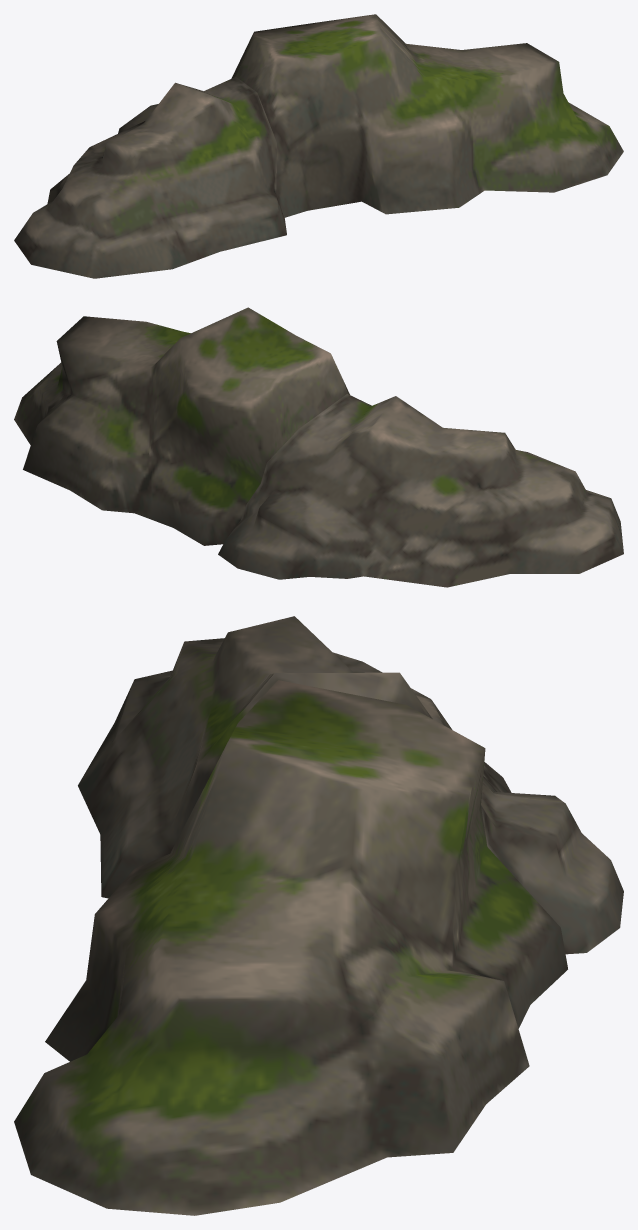
File: shrine_wj004_10.FBX
3 renders of one model, top to bottom at view 1: azimuth 30°, elevation 25°; view 2: azimuth 150°, elevation 25°; view 3: azimuth 270°, elevation 25°, orthographic. The views are drawn at different scales.
Parts seen in each view (by area): view 1: shrine_wj004_10; view 2: shrine_wj004_10; view 3: shrine_wj004_10.
Boxes of the visible parts, left/top/right/bottom form: shrine_wj004_10: left=14, top=14, right=623, bottom=278; shrine_wj004_10: left=14, top=307, right=623, bottom=587; shrine_wj004_10: left=14, top=616, right=623, bottom=1215.
Bounding box in the file's own units: 340 × 84.81 × 167.
1 material, 1 textured.
